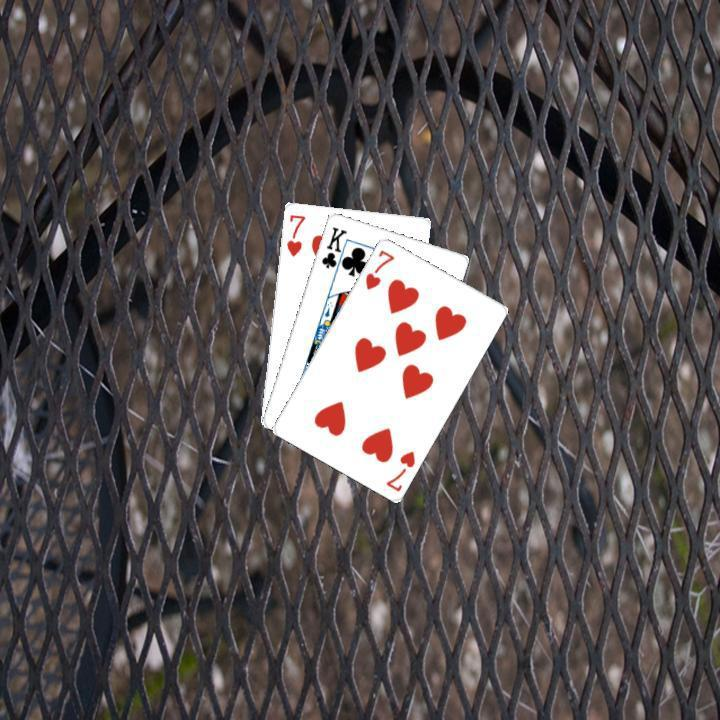7: (381, 446, 417, 494), (361, 245, 396, 292), (282, 210, 307, 258)
K: (317, 222, 351, 277)
